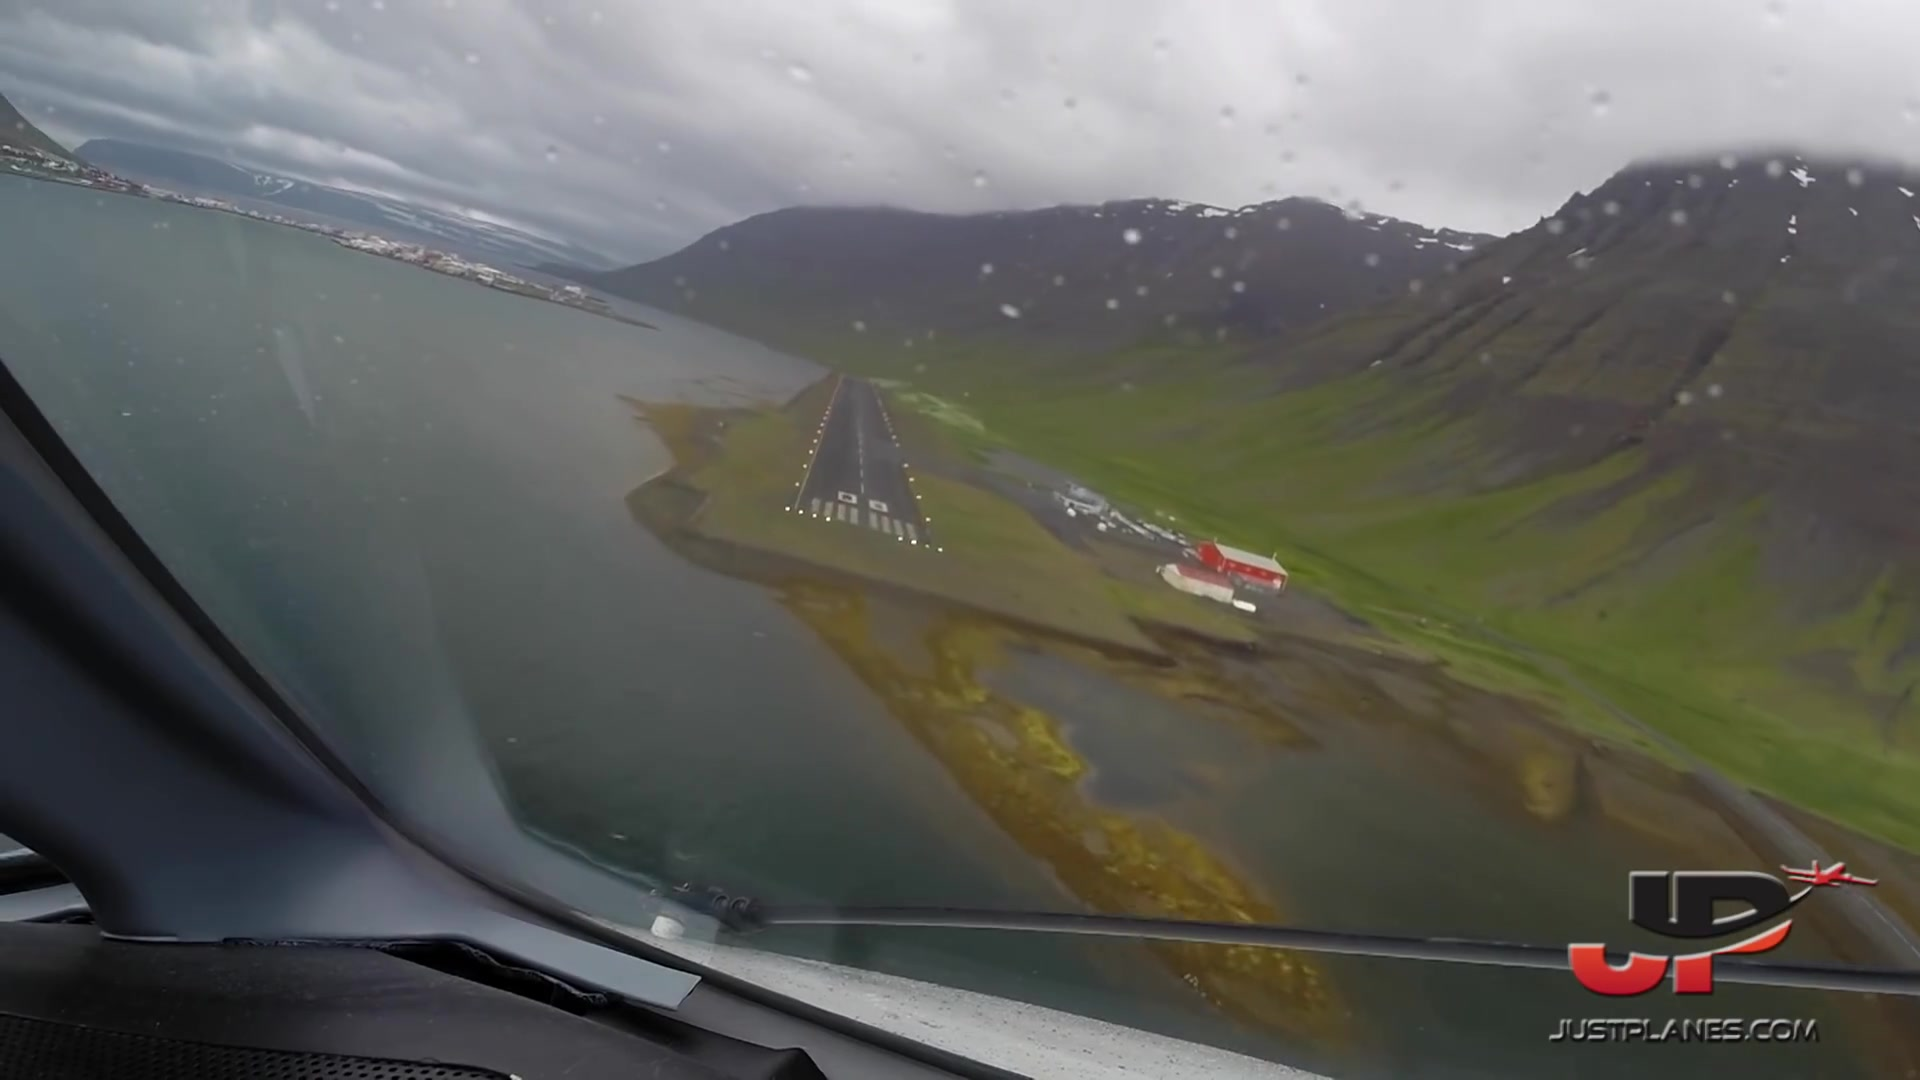entrance: (810, 498, 918, 541)
runway: (782, 371, 942, 555)
